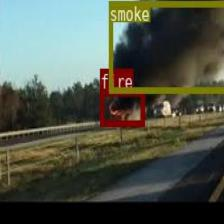fire: (100, 90, 144, 125)
smoke: (108, 0, 224, 91)
